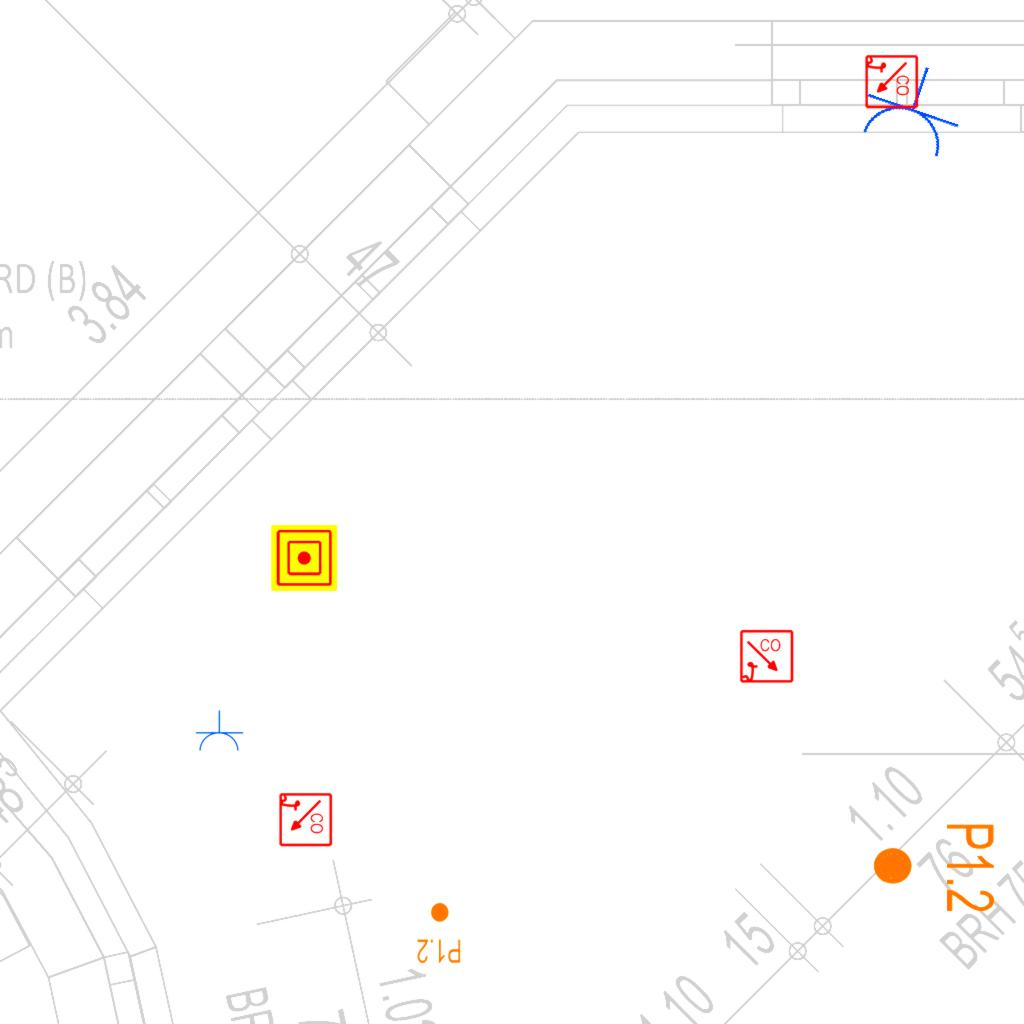Downlight_LED_Einbauleuchten_Flur: (870, 821, 998, 914), (416, 901, 462, 965)
NAM-Nichtautomatischer_Melder: (271, 525, 337, 591)
ROA_Rauchmelder_optisch_mit_Signalgeber_(Sockelsirene): (277, 792, 333, 848), (739, 629, 795, 685), (863, 54, 919, 110)
Schukosteckdose_einfach: (851, 50, 975, 165), (194, 710, 244, 753)
